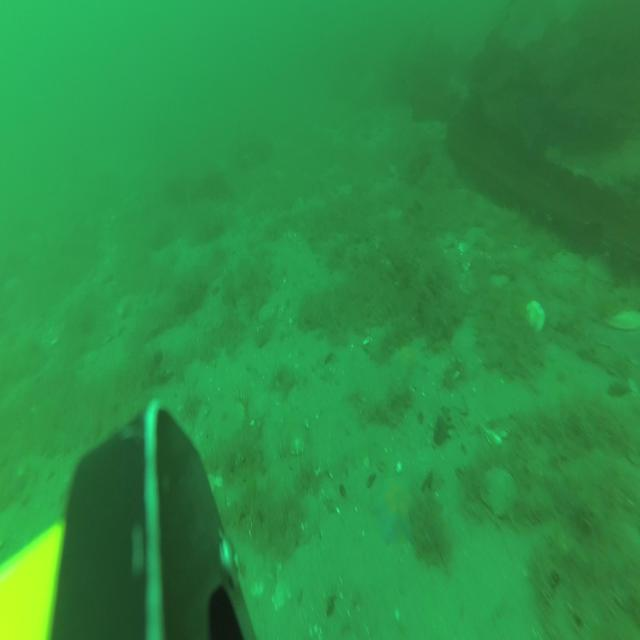scallop: (479, 466, 518, 517), (606, 302, 640, 331), (524, 298, 546, 335)
starfish: (369, 476, 414, 544), (388, 342, 424, 383)
